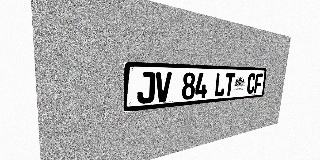4: (195, 72, 208, 99)
8: (181, 72, 196, 100)
C: (246, 73, 256, 94)
F: (254, 73, 263, 93)
J: (137, 72, 155, 104)
L: (214, 73, 226, 97)
T: (224, 73, 235, 96)
V: (155, 72, 172, 103)
